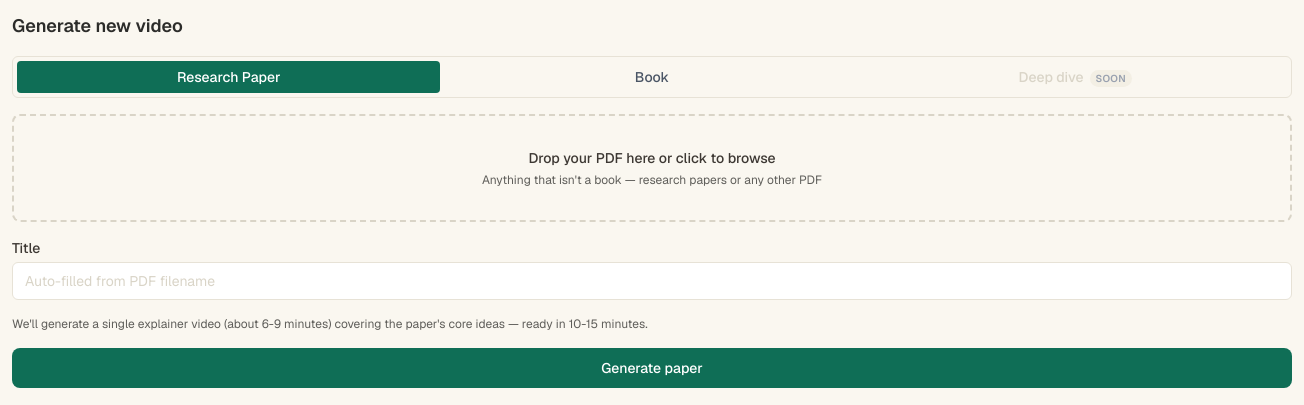
Test: GenerateForm › switches back to Research paper mode
The image size is (1304, 405).
What coordinates should you click on to do the following:
click the button "Book"
I would click on:
 (652, 77)
Its box is [440, 61, 864, 93].
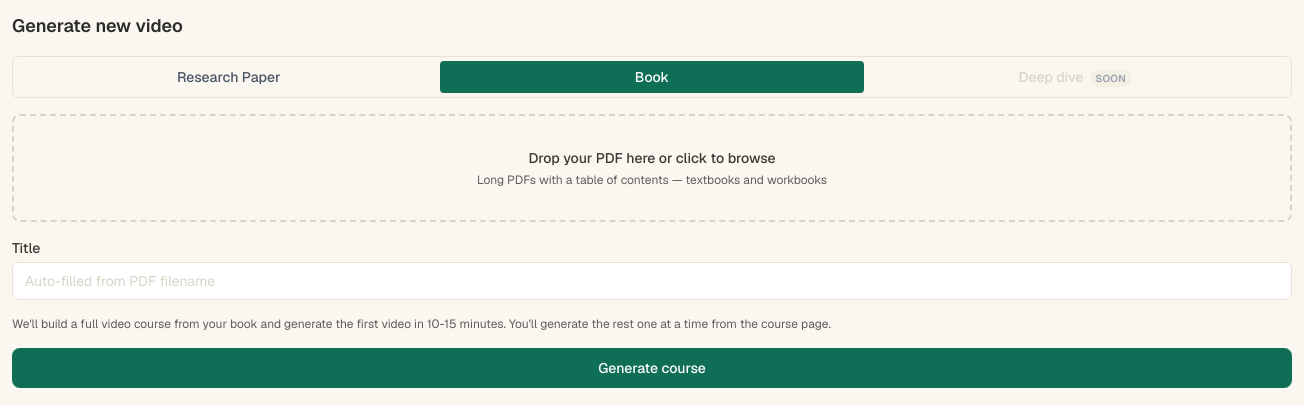
What coordinates should you click on to do the following:
click the button "Research paper"
I would click on:
 (229, 77)
Its box is [17, 61, 440, 93].
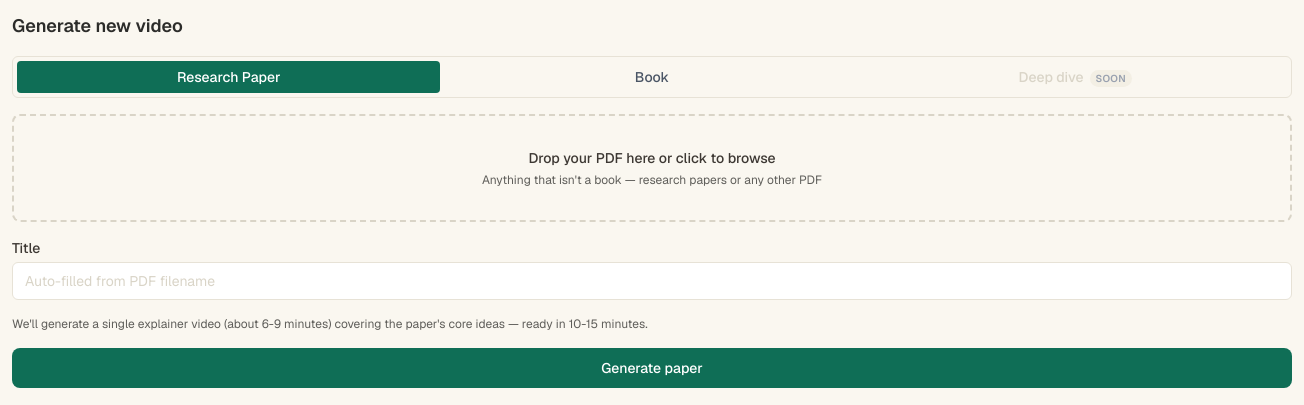
Expected: the button "Generate paper" is shown, [12, 348, 1292, 388]
Expected: the text "Anything that isn't a book — research papers or any other PDF" is shown, [482, 172, 822, 188]
